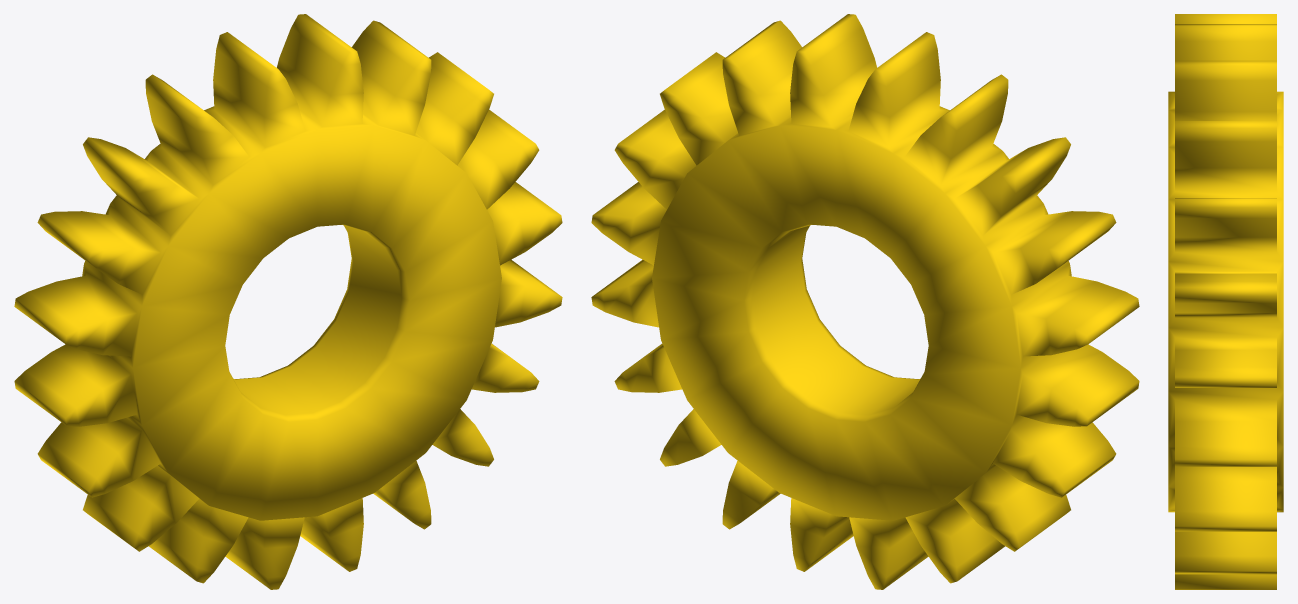
The model's file is wheel.fbx.
3 renders of one model, left to right at view 1: azimuth 30°, elevation 25°; view 2: azimuth 150°, elevation 25°; view 3: azimuth 270°, elevation 25°, orthographic.
Parts seen in each view (by area): view 1: default; view 2: default; view 3: default.
Part boxes in pixels (x1,y1,x2,y2): default: (14, 14, 562, 589); default: (591, 14, 1139, 589); default: (1168, 14, 1283, 589).
Size of the model in its own units: 77.33 by 77.33 by 15.66.
